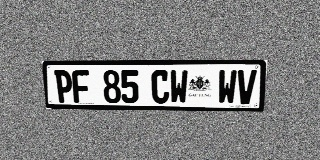5: (121, 70, 139, 103)
8: (103, 70, 121, 103)
C: (151, 70, 169, 104)
F: (72, 70, 91, 103)
P: (54, 70, 73, 103)
V: (236, 70, 257, 104)
W: (217, 70, 237, 104), (170, 70, 188, 104)
